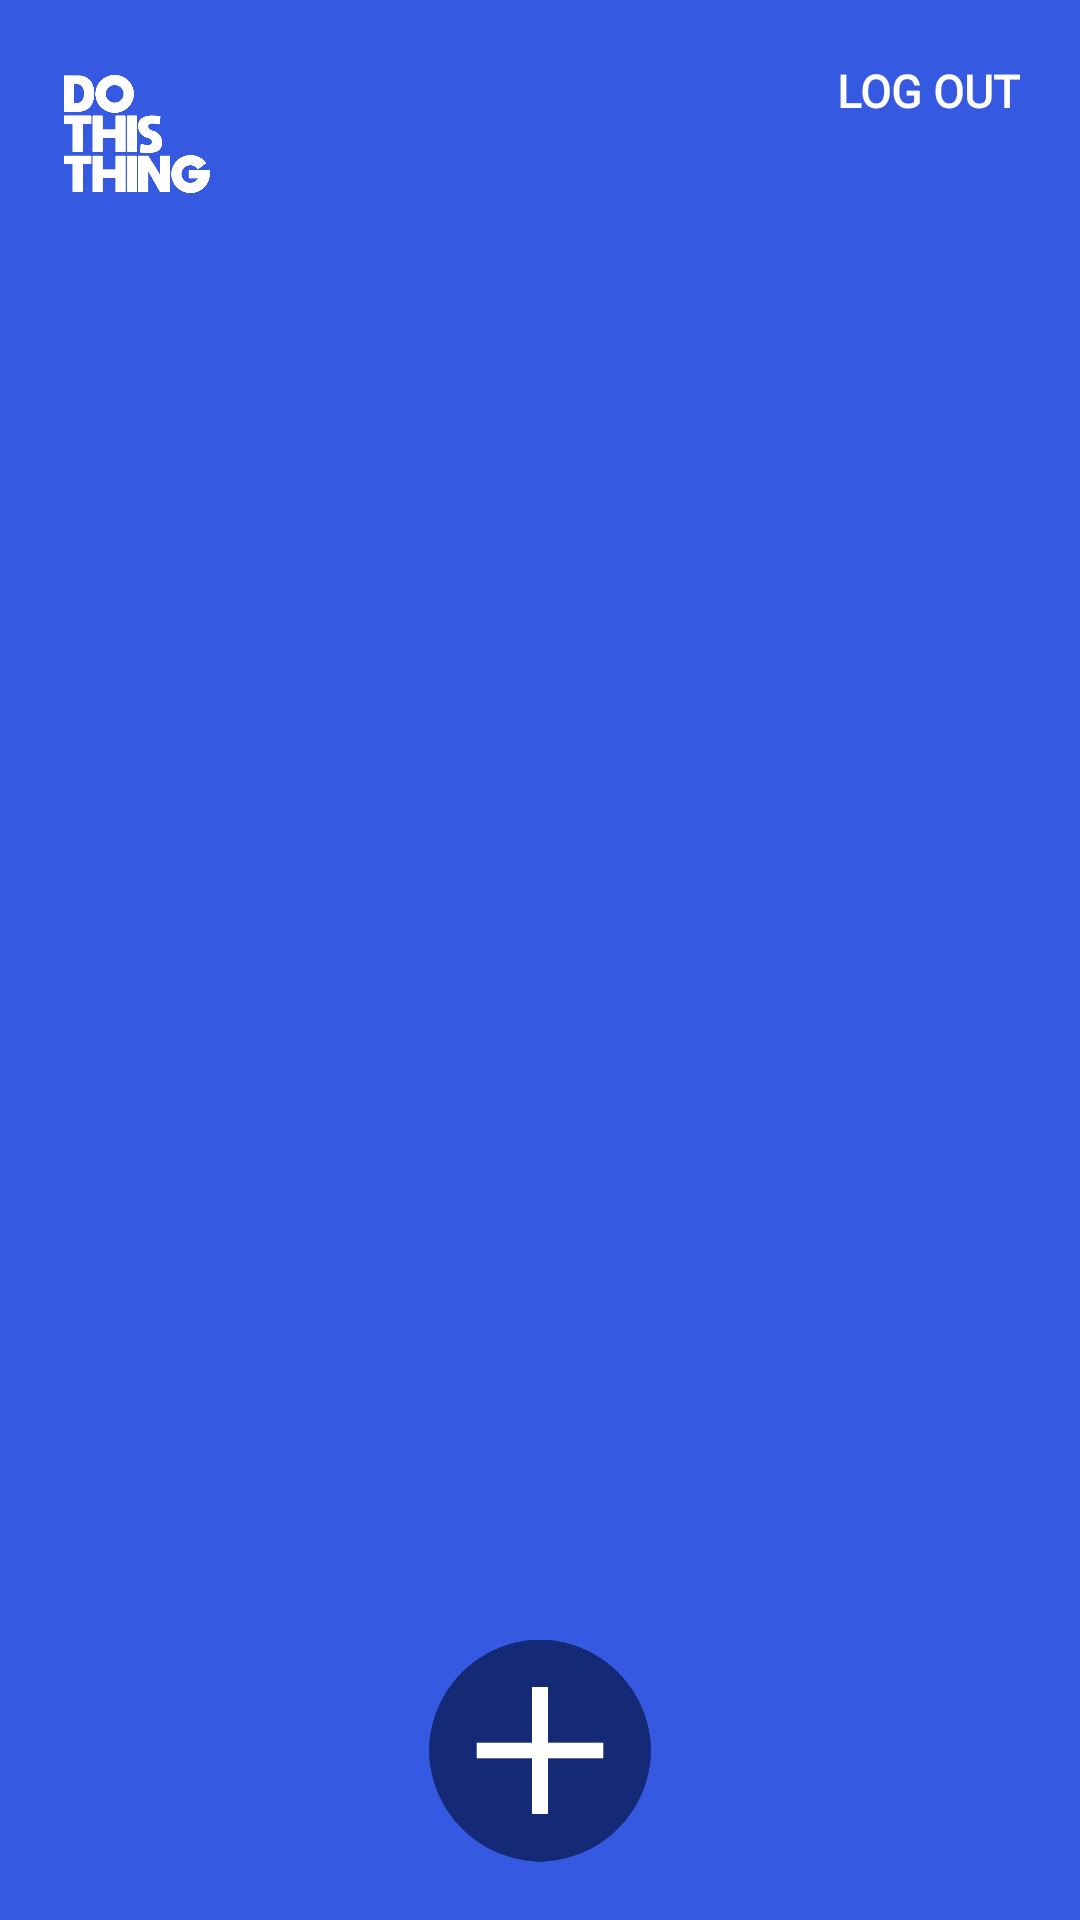

Locate icon controls on the screen. Image size 1080x1920, boxes as (x1, y1, x2, y2).
add: (429, 1640, 651, 1862)
